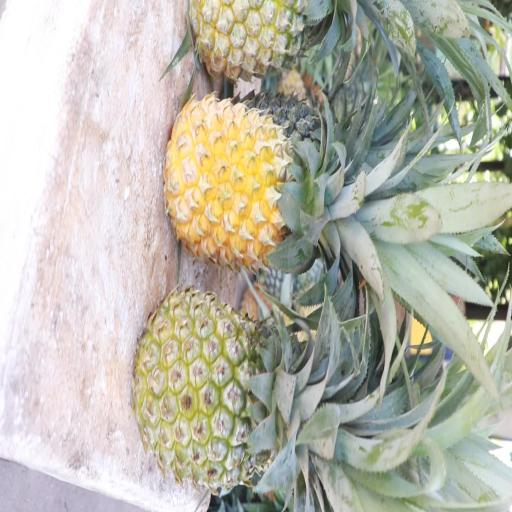------------------------------: (140, 289, 307, 487), (188, 0, 312, 90)
Pineapple - v8 v1: (169, 95, 344, 271)
